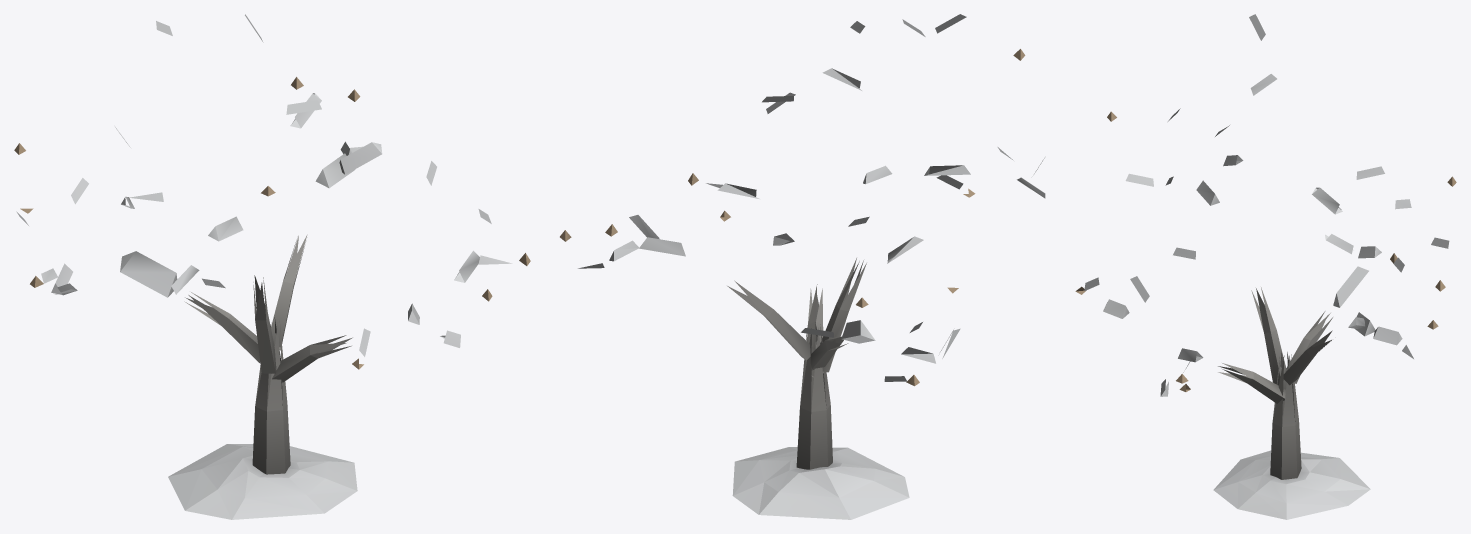
File: rowan.lod.glb
3 views of the same model, side by side, from view 1: azimuth 30°, elevation 25°; view 2: azimuth 150°, elevation 25°; view 3: azimuth 270°, elevation 25° (orthographic). The views are drawn at different scales.
Parts seen in each view (by area): view 1: rowan; view 2: rowan; view 3: rowan.
Part boxes in pixels (bbox=[...]): rowan: bbox=[14, 14, 530, 519]; rowan: bbox=[560, 14, 1045, 519]; rowan: bbox=[1075, 14, 1456, 519].
Size of the model in its own units: 4.09 by 5.04 by 4.16.
